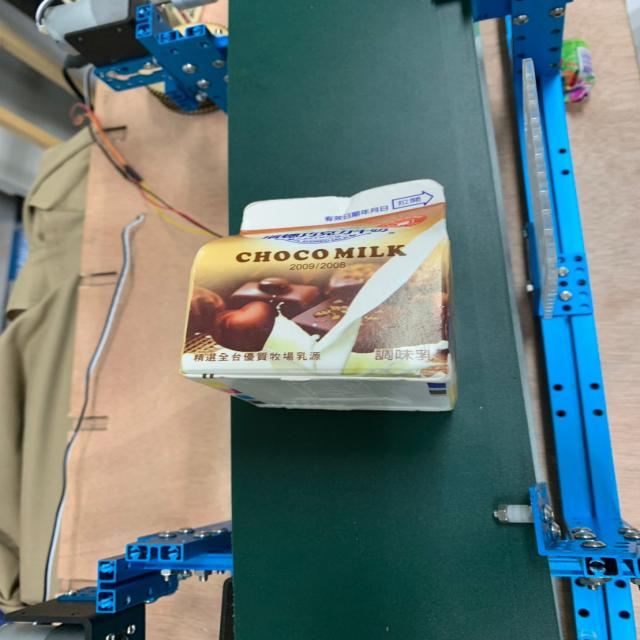non_white_jug: (150, 182, 466, 398)
